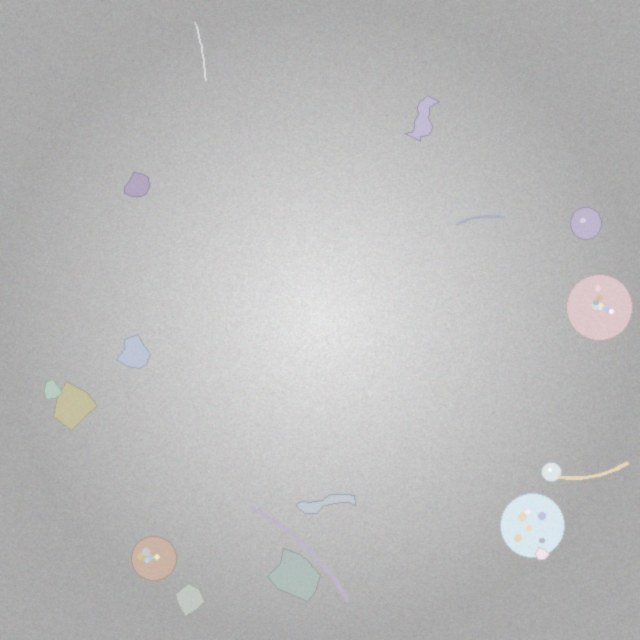fiber: (246, 503, 352, 605), (555, 459, 631, 483), (192, 19, 208, 83), (453, 213, 508, 228)
film: (404, 96, 440, 142), (297, 494, 355, 514)
foam: (567, 275, 633, 341), (501, 493, 565, 557), (131, 536, 176, 581)
fragment: (267, 548, 321, 601), (53, 382, 97, 430), (117, 335, 150, 369), (175, 584, 204, 617), (124, 172, 150, 197), (45, 379, 62, 399), (536, 547, 550, 560)
pellet: (570, 208, 602, 240), (542, 462, 562, 482)
